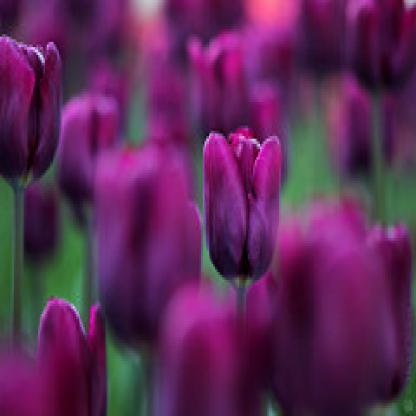TULIP: (10, 14, 405, 396)
